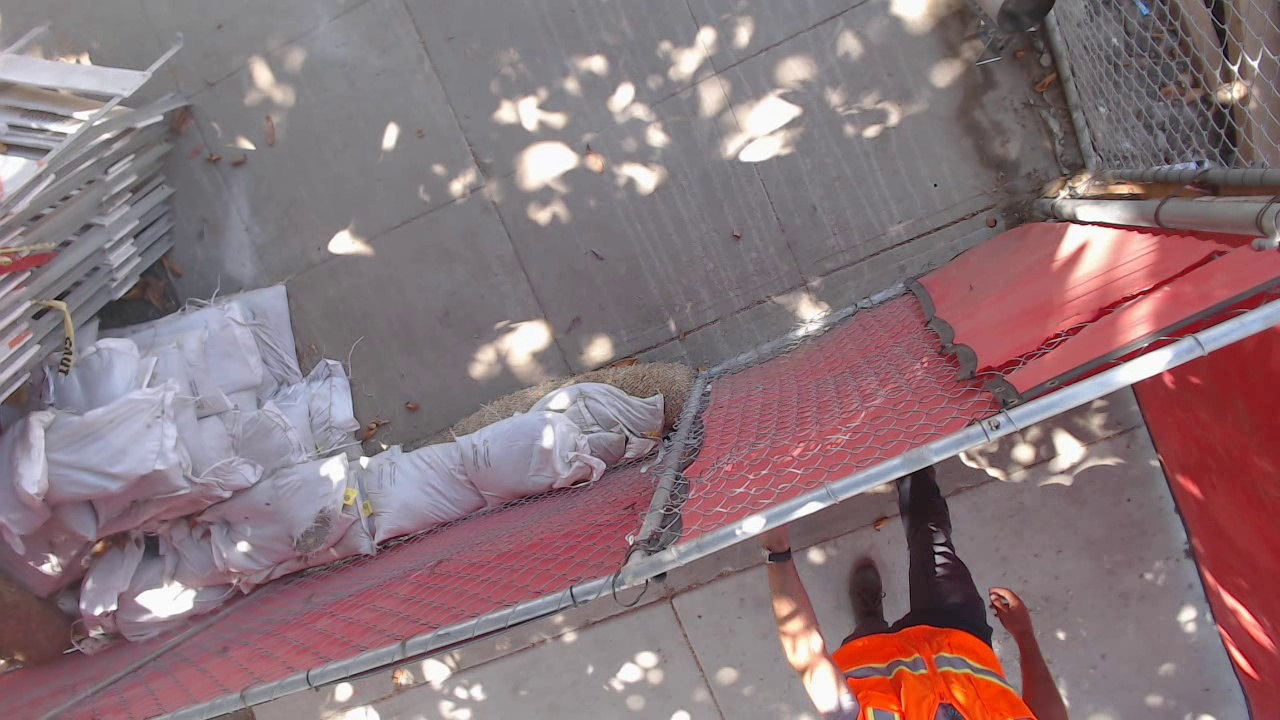person: (700, 45, 1055, 234)
safetyvest: (796, 45, 1056, 214)
